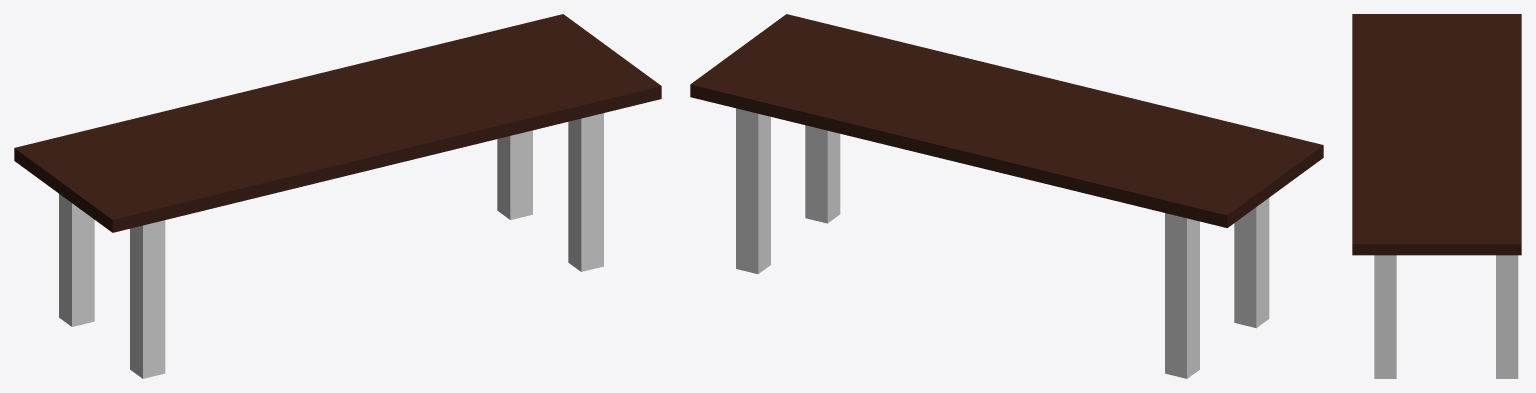
Rendered from mesa.FBX.
The picture shows the model from 3 angles, left to right: view 1: azimuth 30°, elevation 25°; view 2: azimuth 150°, elevation 25°; view 3: azimuth 270°, elevation 25°; orthographic projection. The views are drawn at different scales.
Parts seen in each view (by area): view 1: pCube30, Box037, Box039, Box038, Box040; view 2: pCube30, Box040, Box038, Box037, Box039; view 3: pCube30, Box039, Box040.
Boxes of the visible parts, box(x1,y1,x2,y2) form: pCube30: box(14, 14, 661, 232); Box037: box(130, 220, 165, 378); Box039: box(568, 113, 603, 271); Box038: box(59, 194, 94, 326); Box040: box(497, 130, 532, 219); pCube30: box(690, 14, 1323, 227); Box040: box(736, 108, 770, 273); Box038: box(1165, 213, 1199, 378); Box037: box(1234, 198, 1269, 328); Box039: box(805, 125, 840, 223); pCube30: box(1352, 14, 1521, 255); Box039: box(1374, 255, 1396, 378); Box040: box(1496, 255, 1518, 378).
Bounding box in the file's own units: 21.06 × 6.54 × 6.55.
